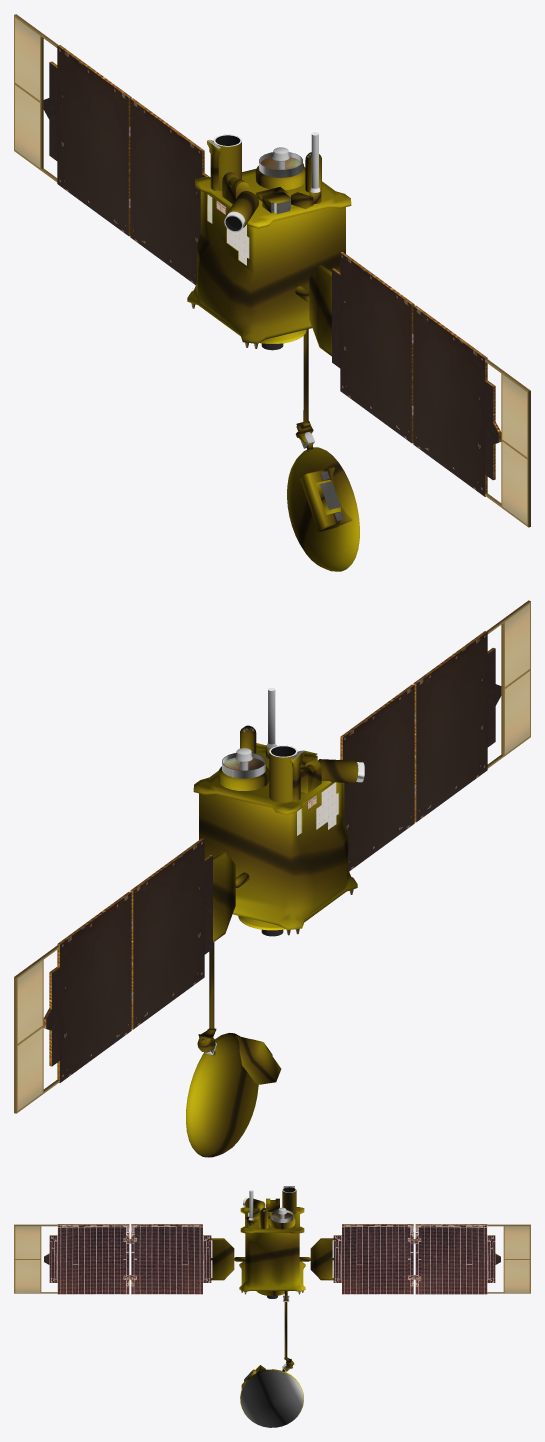
Rendered from Mars Global Surveyor.obj.
The picture shows the model from 3 angles, top to bottom: view 1: azimuth 30°, elevation 25°; view 2: azimuth 150°, elevation 25°; view 3: azimuth 270°, elevation 25°; orthographic projection. The views are drawn at different scales.
Parts seen in each view (by area): view 1: obj8, obj7, obj5; view 2: obj8, obj7, obj5; view 3: obj1, obj7, obj8, obj4.
Part boxes in pixels (left/top/right/bottom): obj8: left=14, top=14, right=530, bottom=527; obj7: left=187, top=140, right=359, bottom=571; obj5: left=213, top=132, right=320, bottom=448; obj8: left=14, top=600, right=530, bottom=1113; obj7: left=186, top=725, right=358, bottom=1157; obj5: left=205, top=688, right=364, bottom=1055; obj1: left=44, top=1224, right=500, bottom=1294; obj7: left=211, top=1187, right=333, bottom=1427; obj8: left=14, top=1186, right=530, bottom=1387; obj4: left=240, top=1370, right=303, bottom=1427.
Size of the model in its own units: 1.75 by 5.15 by 10.52.
Materials: 8 (7 with a texture image).
